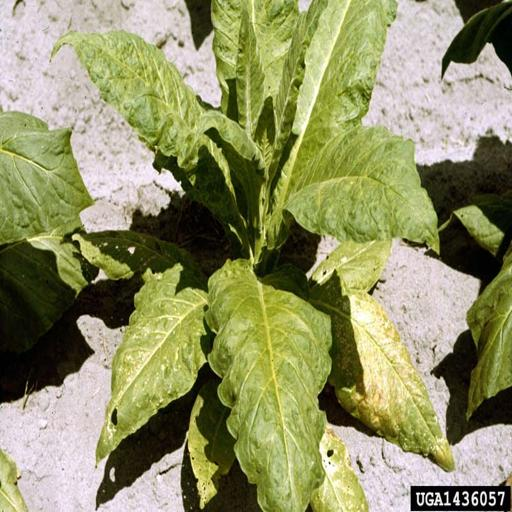Mosaic Virus: (74, 28, 196, 173), (329, 291, 430, 436), (96, 291, 193, 435)
